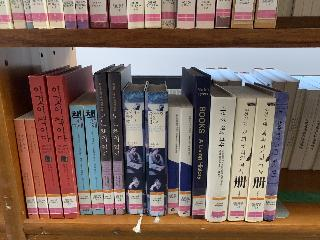book-spine: (29, 74, 63, 220), (47, 75, 78, 219), (204, 95, 236, 223), (245, 97, 276, 223), (226, 96, 256, 222), (262, 91, 288, 221), (94, 73, 115, 216), (122, 91, 146, 214), (191, 76, 211, 219), (146, 92, 168, 216), (107, 73, 125, 216), (69, 104, 92, 215), (14, 119, 38, 220), (25, 119, 49, 220), (84, 105, 105, 215), (179, 108, 193, 216), (167, 107, 180, 214)
